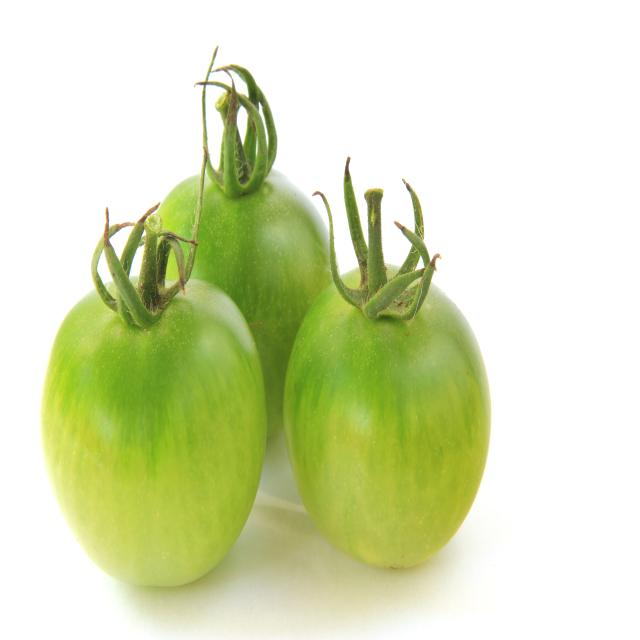yesil: (36, 96, 497, 594)
